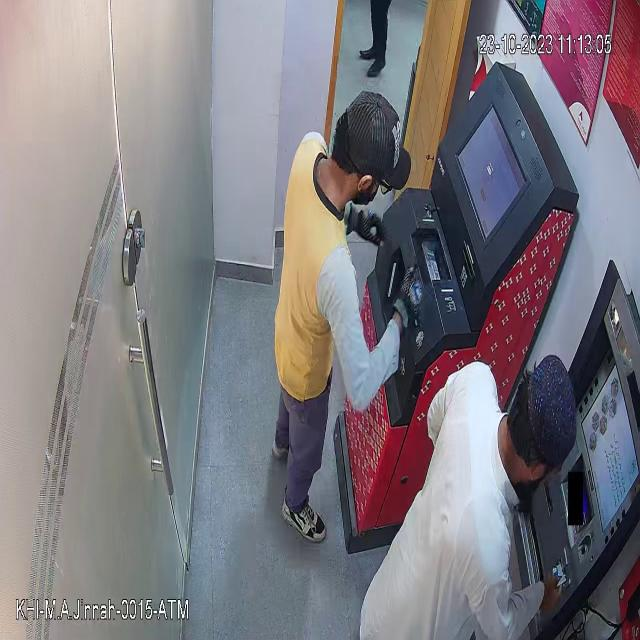atm-card: (548, 555, 570, 590)
